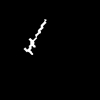double_crochet: (24, 20, 45, 54)
